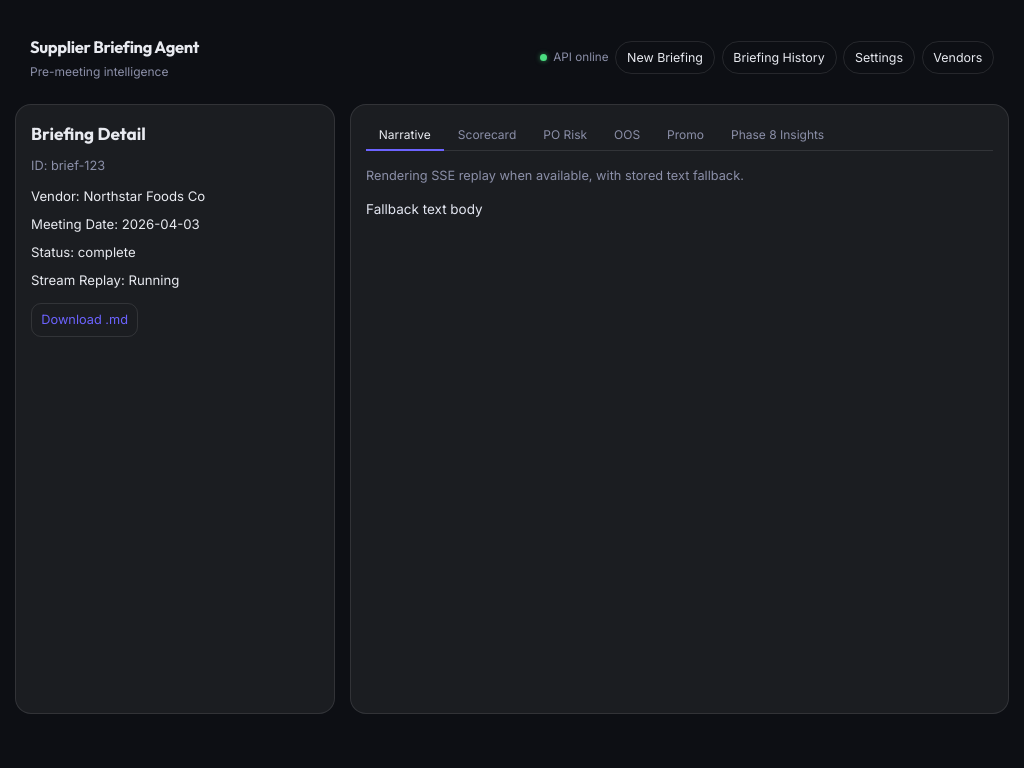
BriefingDetailPage › switching to OOS tab shows oos no-data when oos_attribution is absent
Expected: the text "ID: brief-123" is shown, top-left (31, 158), bottom-right (105, 173)
Click the button "OOS" at (627, 135), box top-left (601, 120), bottom-right (653, 151)
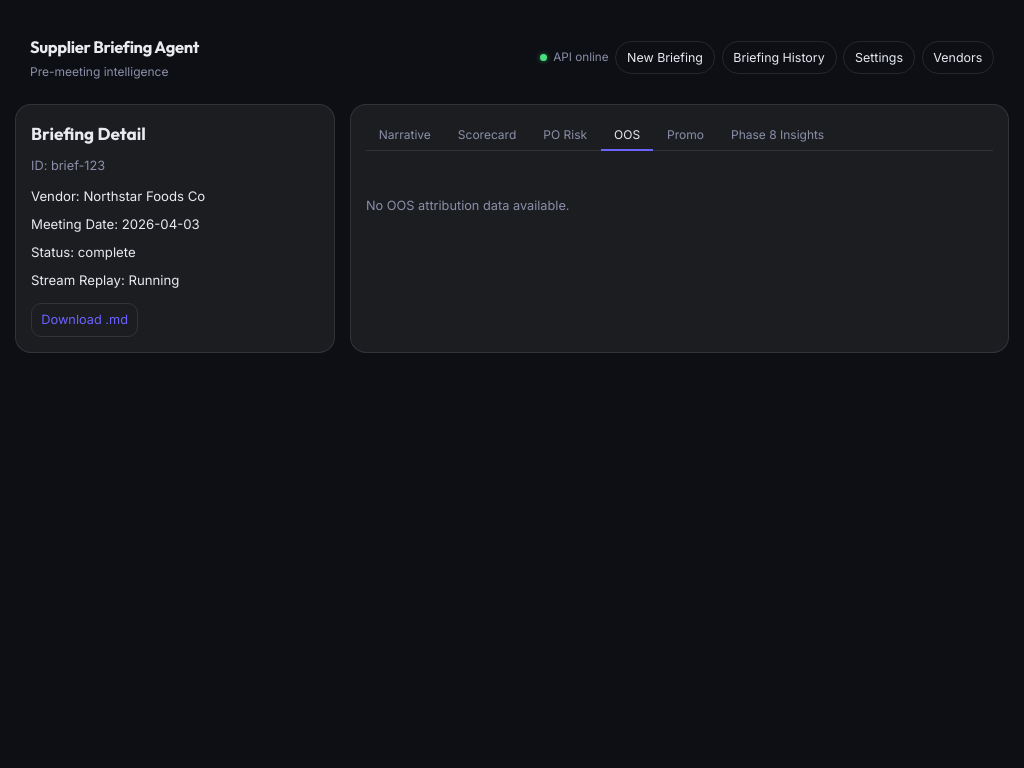
Expected: the text "No OOS attribution data available." is shown, top-left (366, 198), bottom-right (570, 213)
